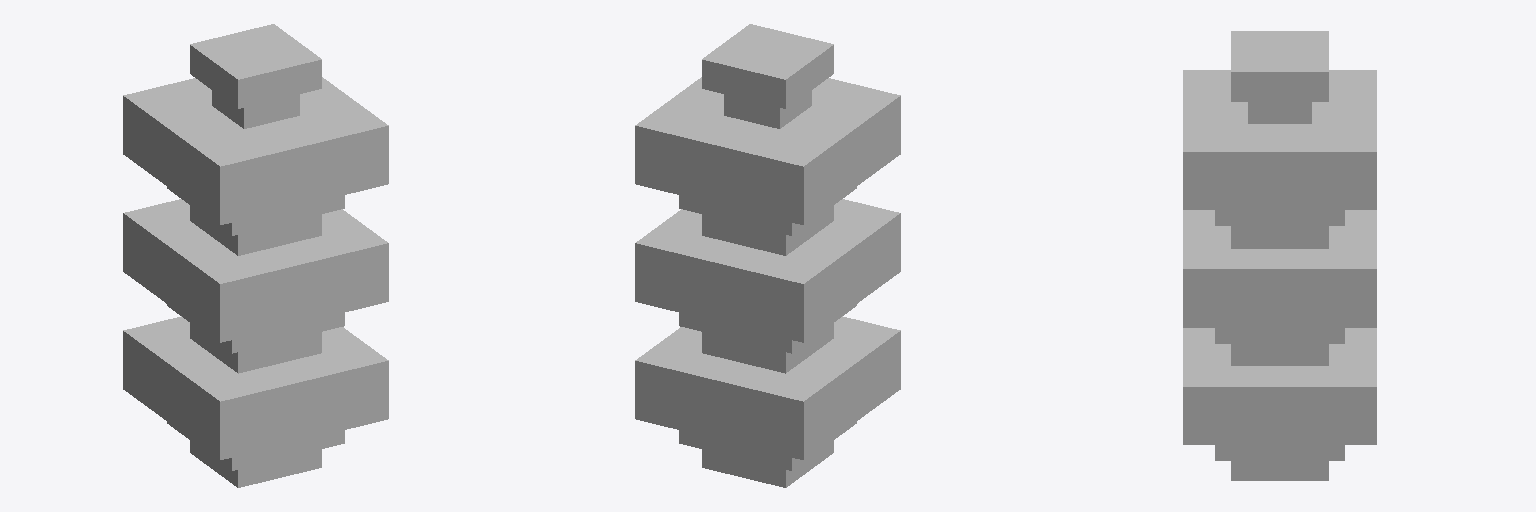
Rendered from relayHV.obj.
3 views of the same model, side by side, from view 1: azimuth 30°, elevation 25°; view 2: azimuth 150°, elevation 25°; view 3: azimuth 270°, elevation 25° (orthographic).
Parts seen in each view (by area): view 1: relayHV; view 2: relayHV; view 3: relayHV.
Part boxes in pixels (x1,y1,x2,y2): relayHV: (123, 24, 388, 487); relayHV: (635, 24, 900, 487); relayHV: (1183, 31, 1376, 480).
Bounding box in the file's own units: 0.375 × 0.8687 × 0.375.